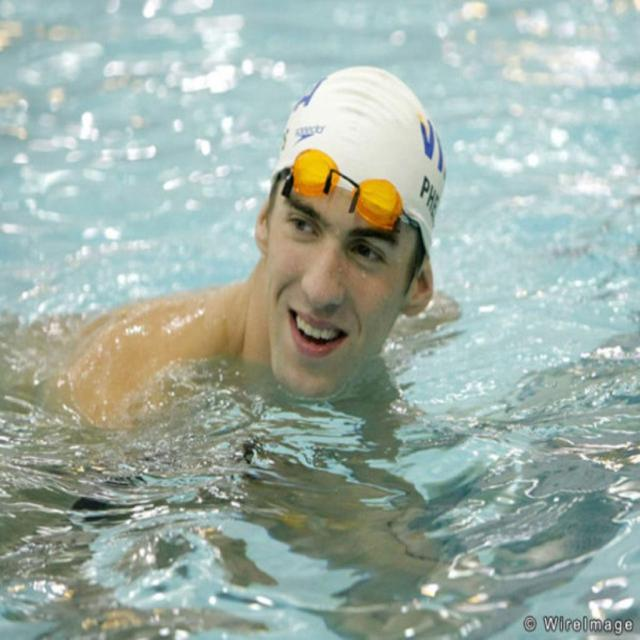Face: (256, 150, 436, 416)
